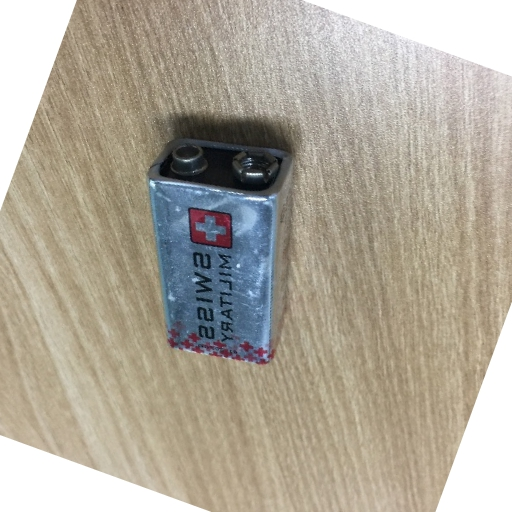Battery_3: (139, 116, 311, 385)
